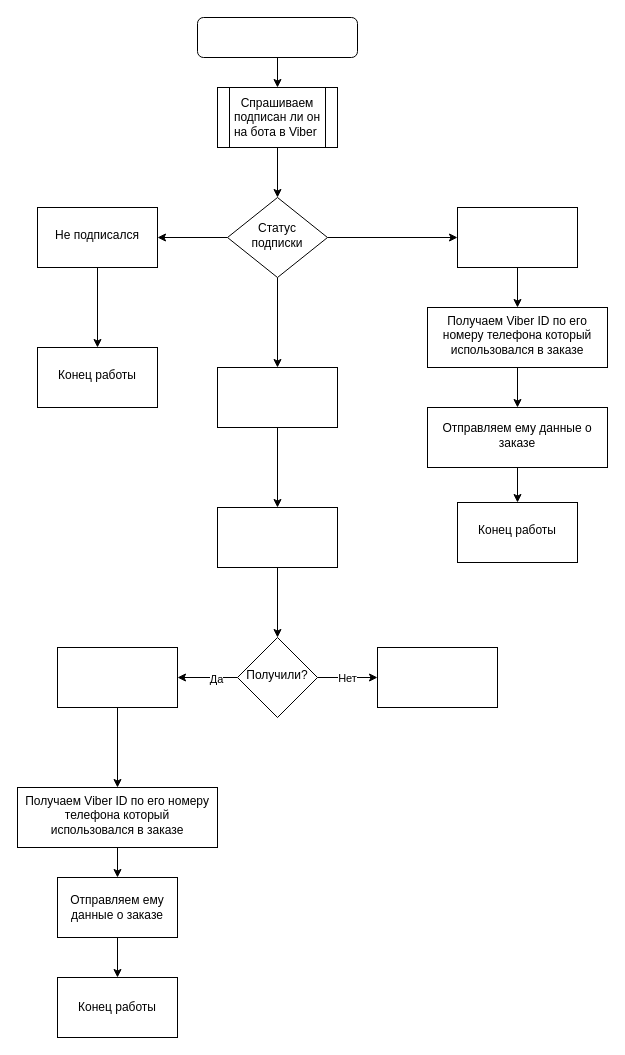
This 625x1055 diagram has some shape labels left out. Each missing label, with the centre of its shape:
"Записываем в базу и связываем его номер телефона и Viber ID" belongs at point (117, 677).
"Клиент сделал заказ" belongs at point (277, 37).
"Подписался" belongs at point (277, 397).
"Подписан" belongs at point (517, 237).
"Получаем его Viber ID" belongs at point (277, 537).
"Херово" belongs at point (437, 677).
